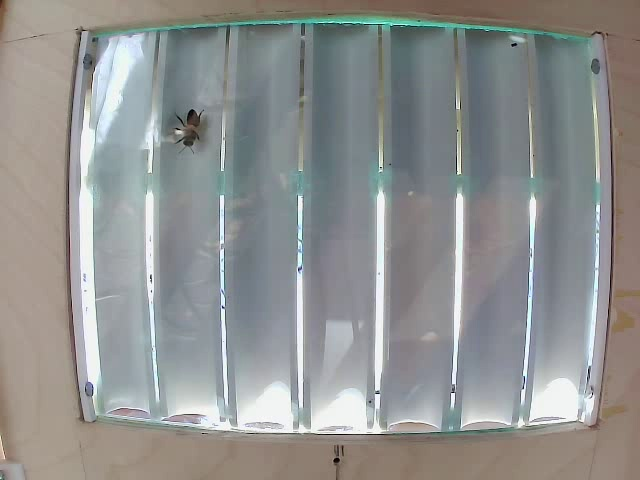bee: (170, 112, 209, 154)
